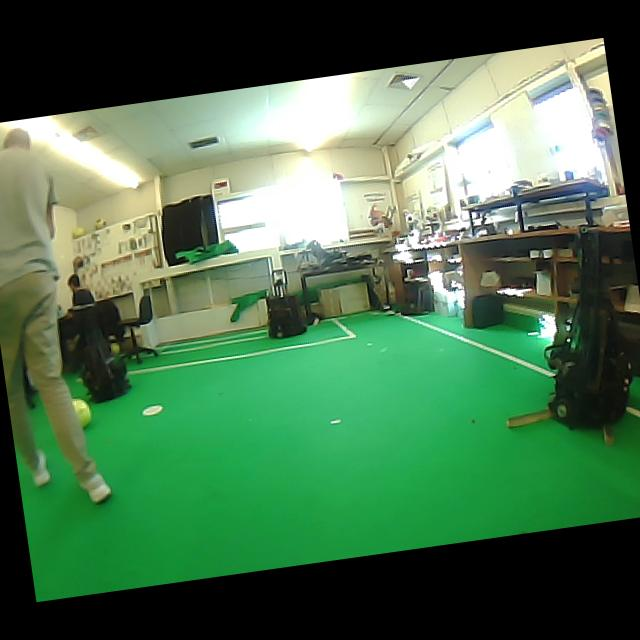ball: (73, 399, 92, 427), (72, 227, 86, 237), (95, 219, 107, 229), (111, 343, 119, 354)
robot: (546, 228, 632, 429), (81, 326, 131, 402), (267, 271, 306, 337)
